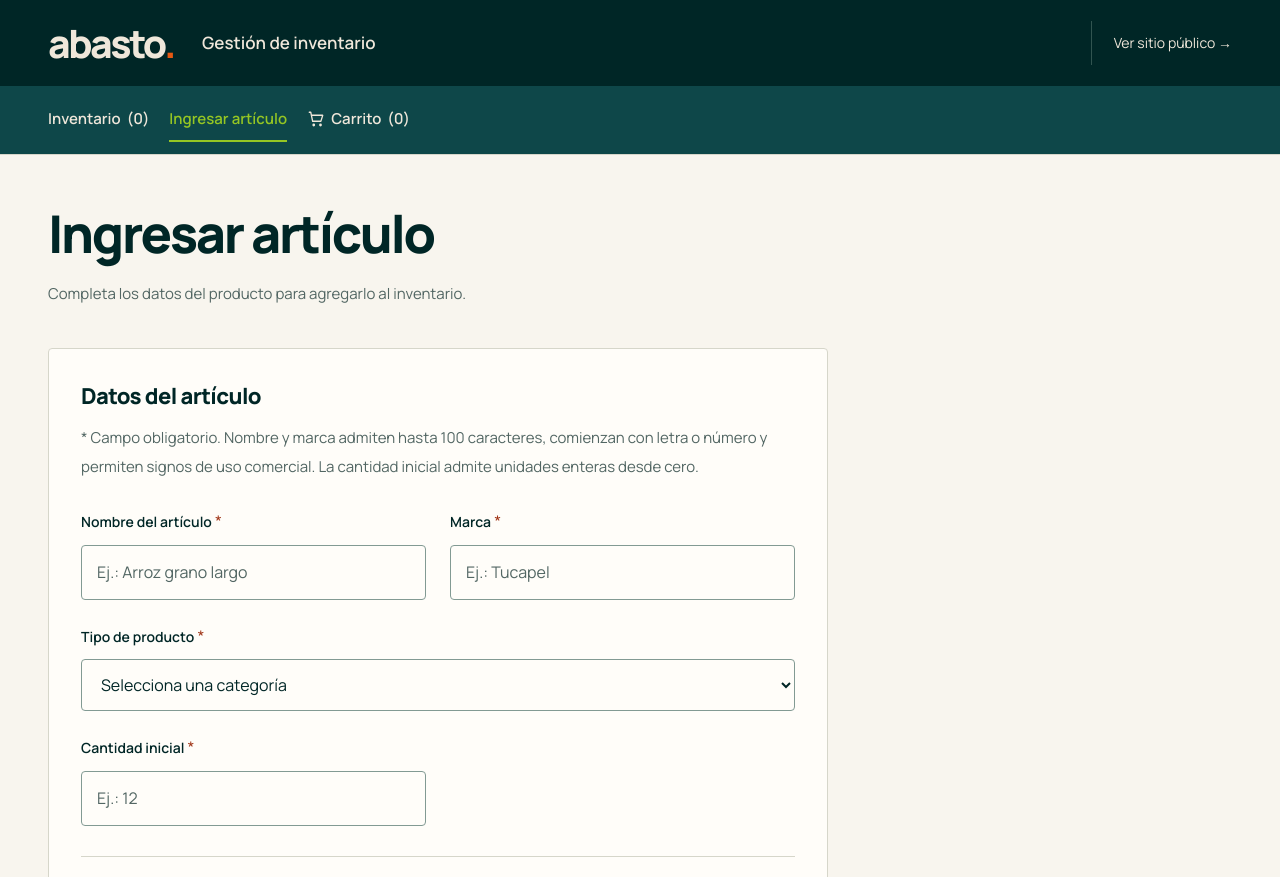
it: Inventario y carrito › valida al salir de un campo editado aunque se haya guardado un artículo antes
Step 1. Type "Leche entera" into the field labelled "Nombre del artículo" → (254, 572), box [81, 545, 426, 600]
Step 2. Type "Colun" into the field labelled "Marca" → (622, 572), box [450, 545, 795, 600]
Step 3. Select "Lácteos" in the dropdown labelled "Tipo de producto" → (438, 685), box [81, 659, 795, 711]
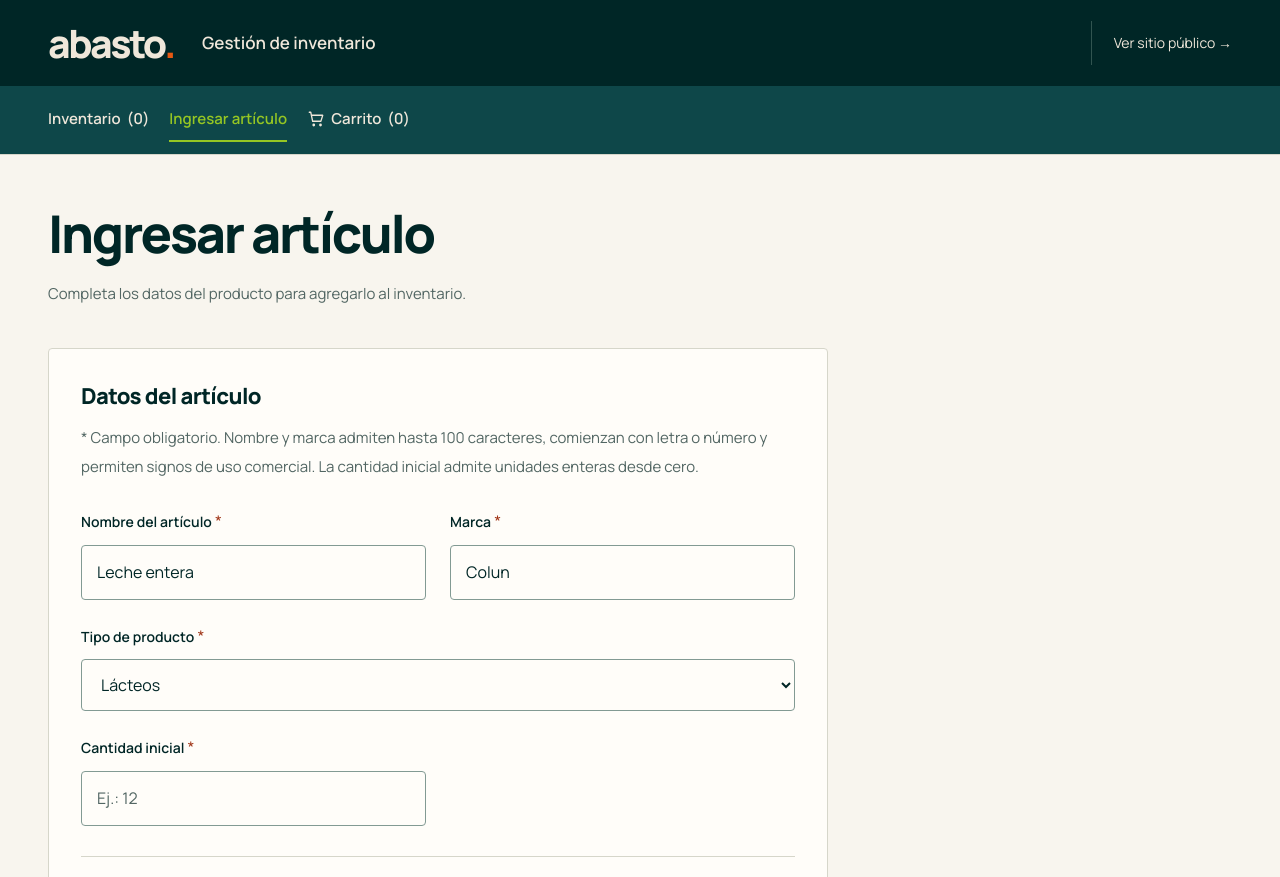
Step 4. Type "3" into the number field labelled "Cantidad inicial" → (254, 799), box [81, 771, 426, 826]
(page scrolled)
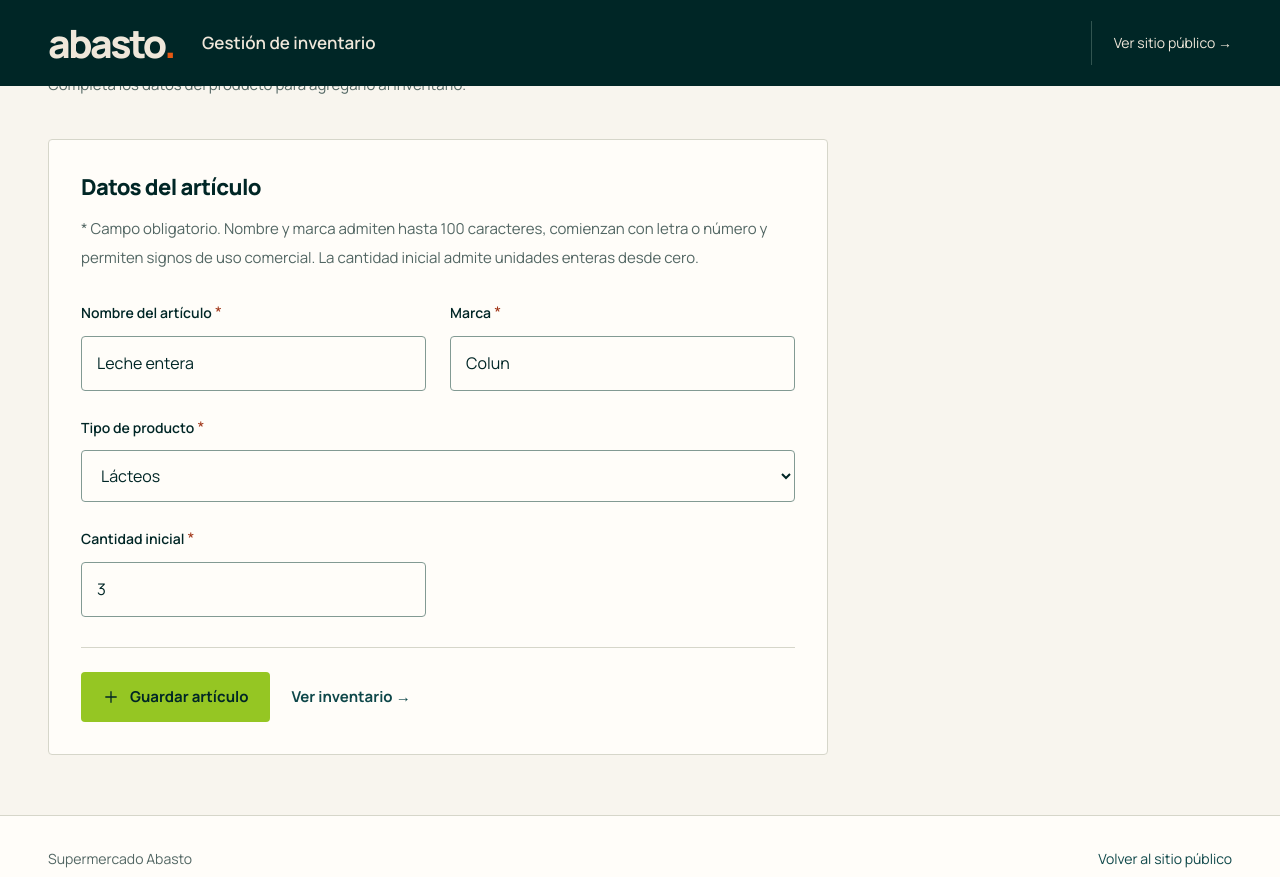
Step 5. Click the button "Guardar artículo" → (175, 697), box [81, 672, 270, 722]
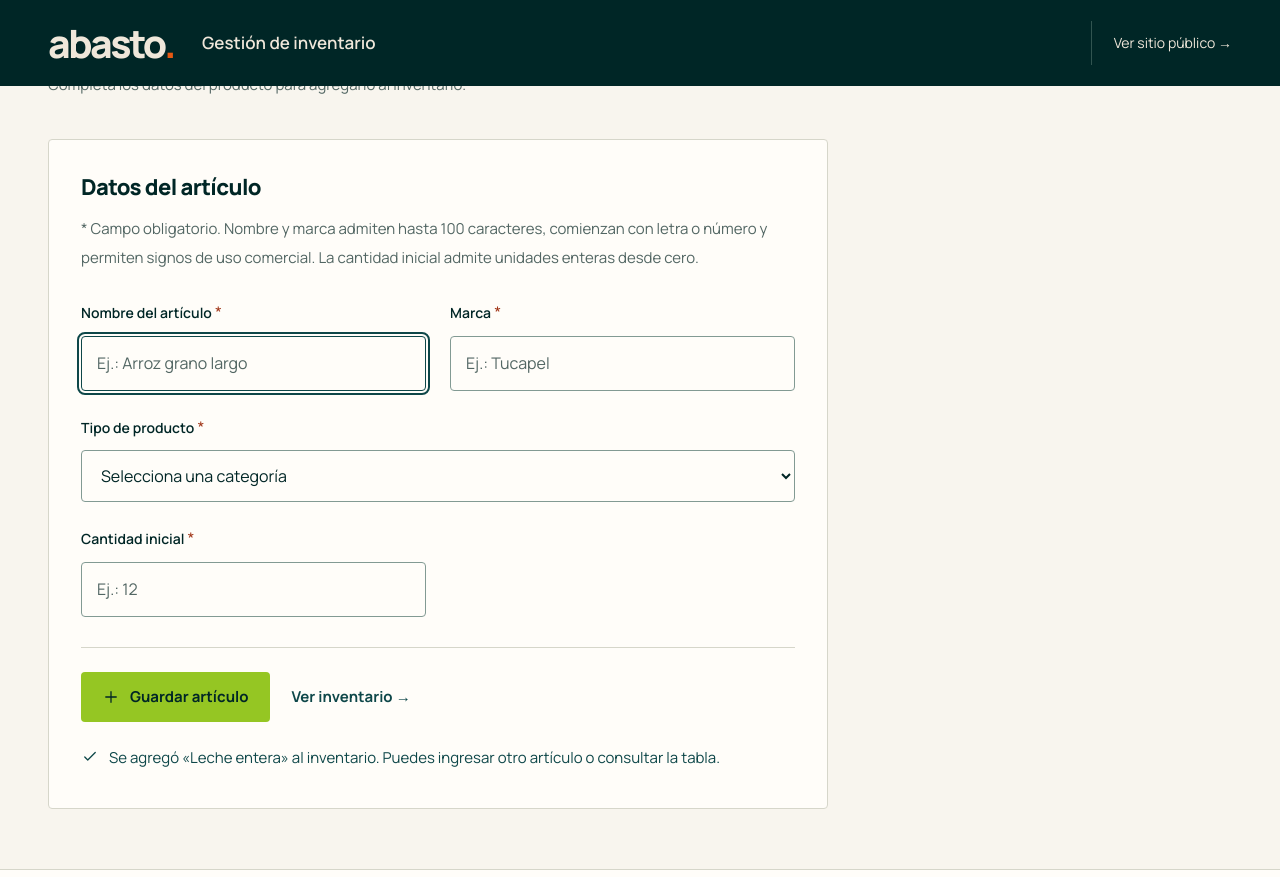
Step 6. Type "Arroz" into the field labelled "Nombre del artículo" → (254, 363), box [81, 336, 426, 391]
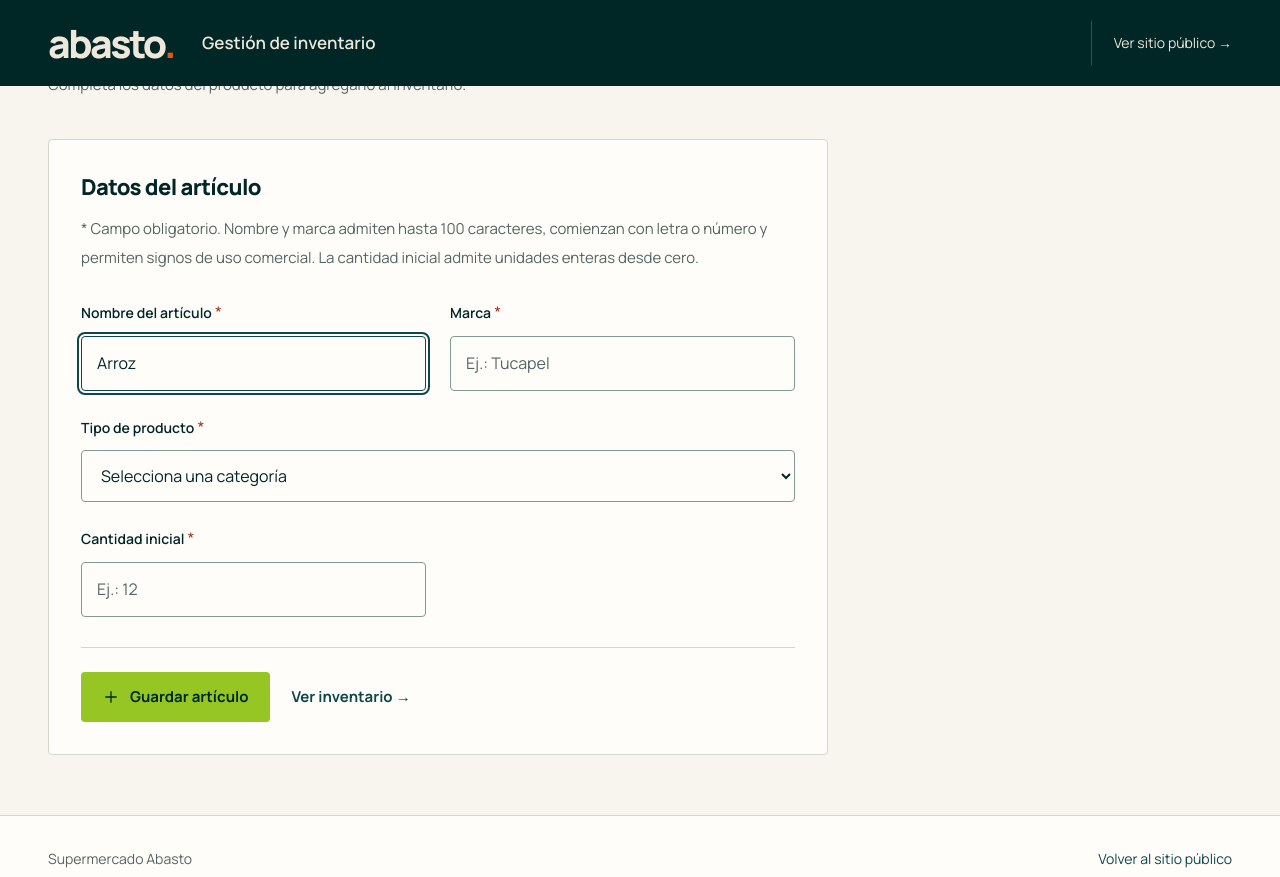
Step 7. Clear the field labelled "Nombre del artículo" → (254, 363), box [81, 336, 426, 391]
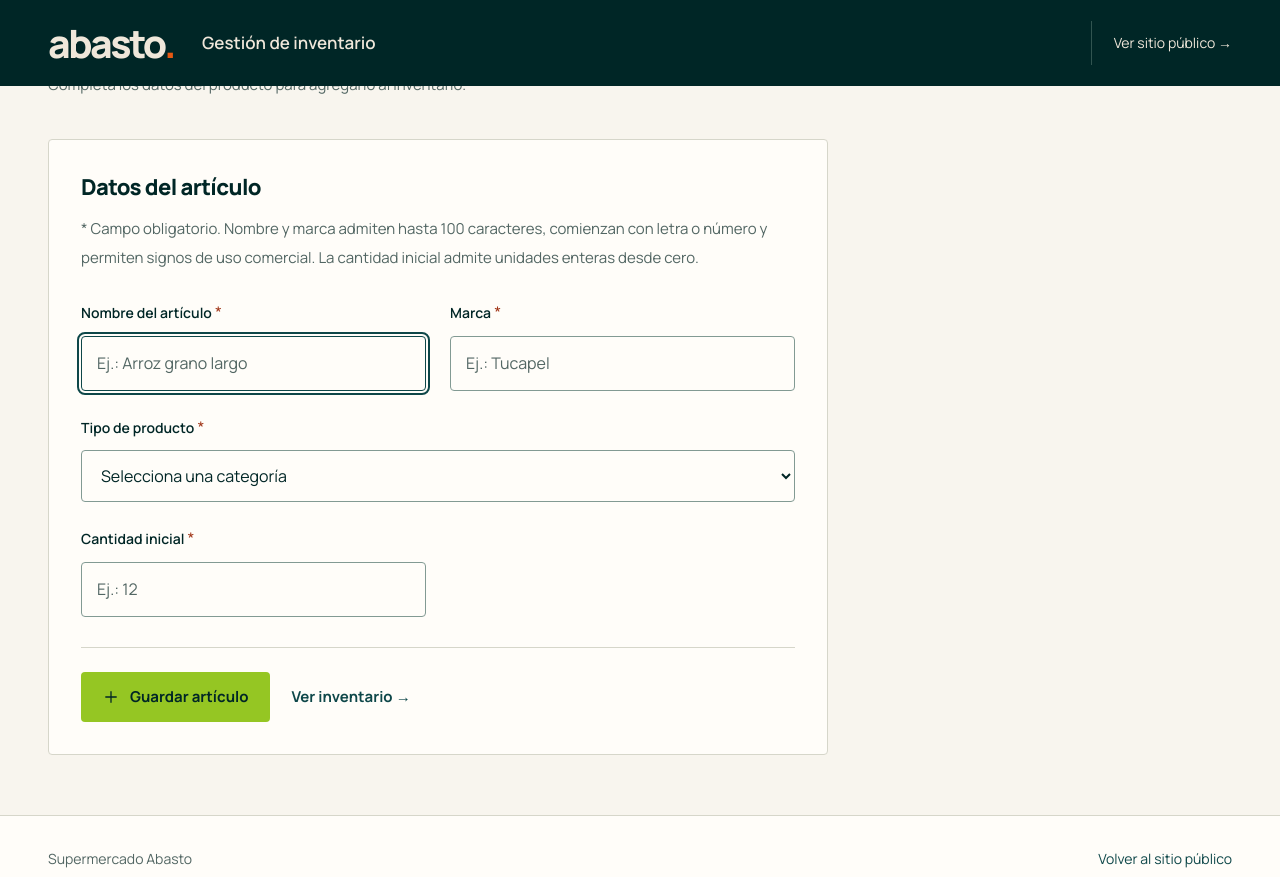
Step 8. Leave the field labelled "Nombre del artículo", box [81, 336, 426, 391]
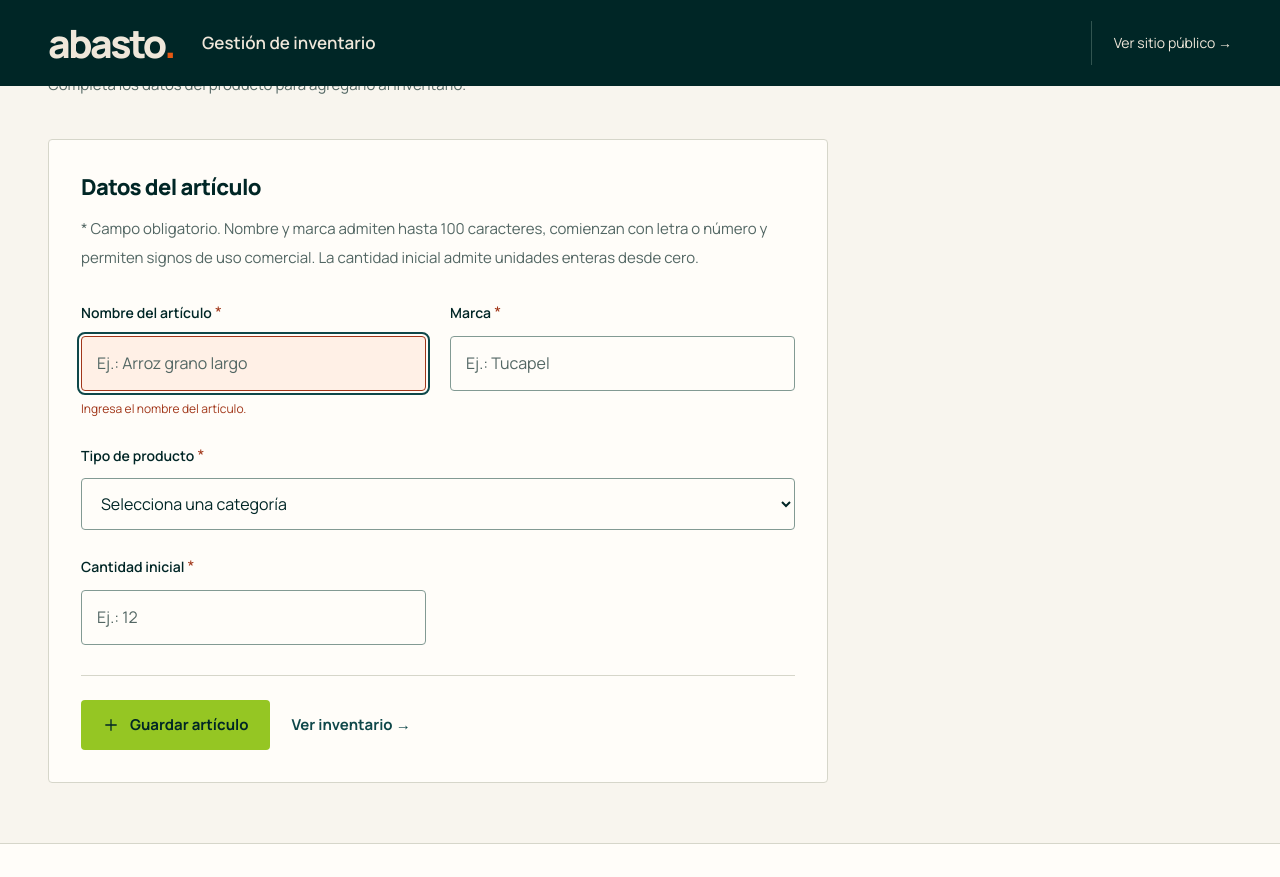
Expected: the message reads "Ingresa el nombre del artículo.", [81, 400, 246, 417]
